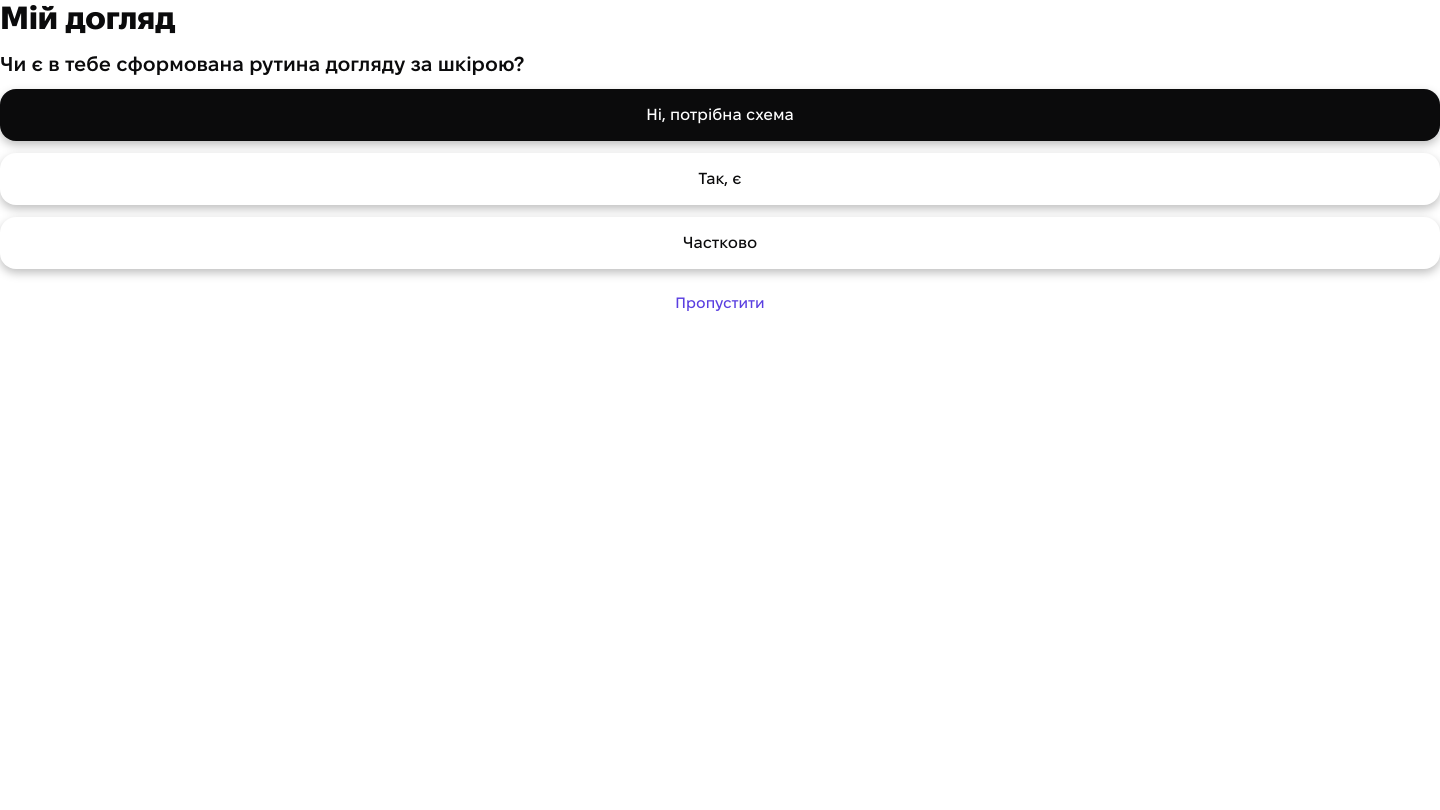
Scenario: personas on the screen › T1: morning of 3 steps, evening of 2 base steps and 1 optional step
Click the button "Ні, потрібна схема" at (720, 115), box [0,89,1439,141]
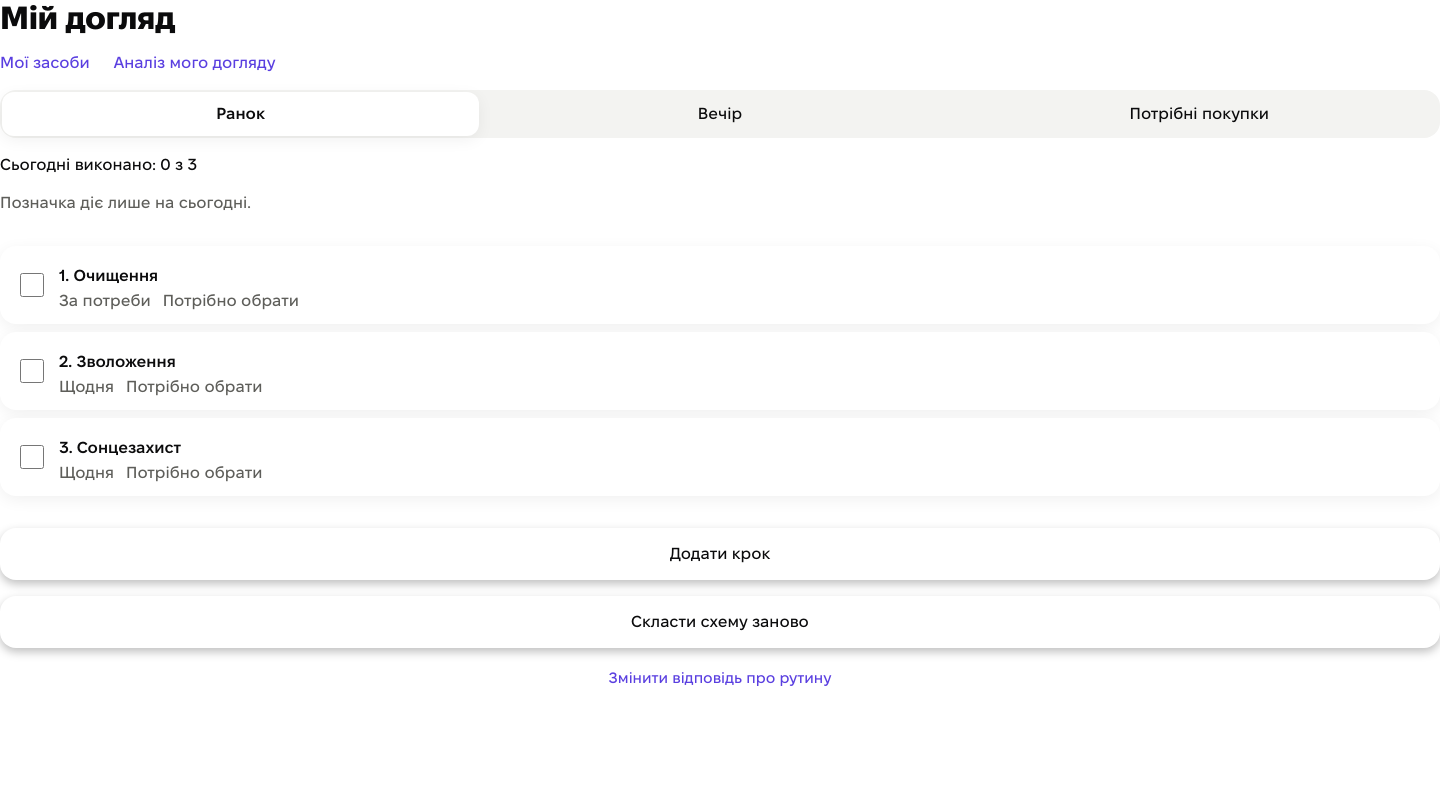
Click the tab "Вечір" at (720, 114), box [481,92,959,136]
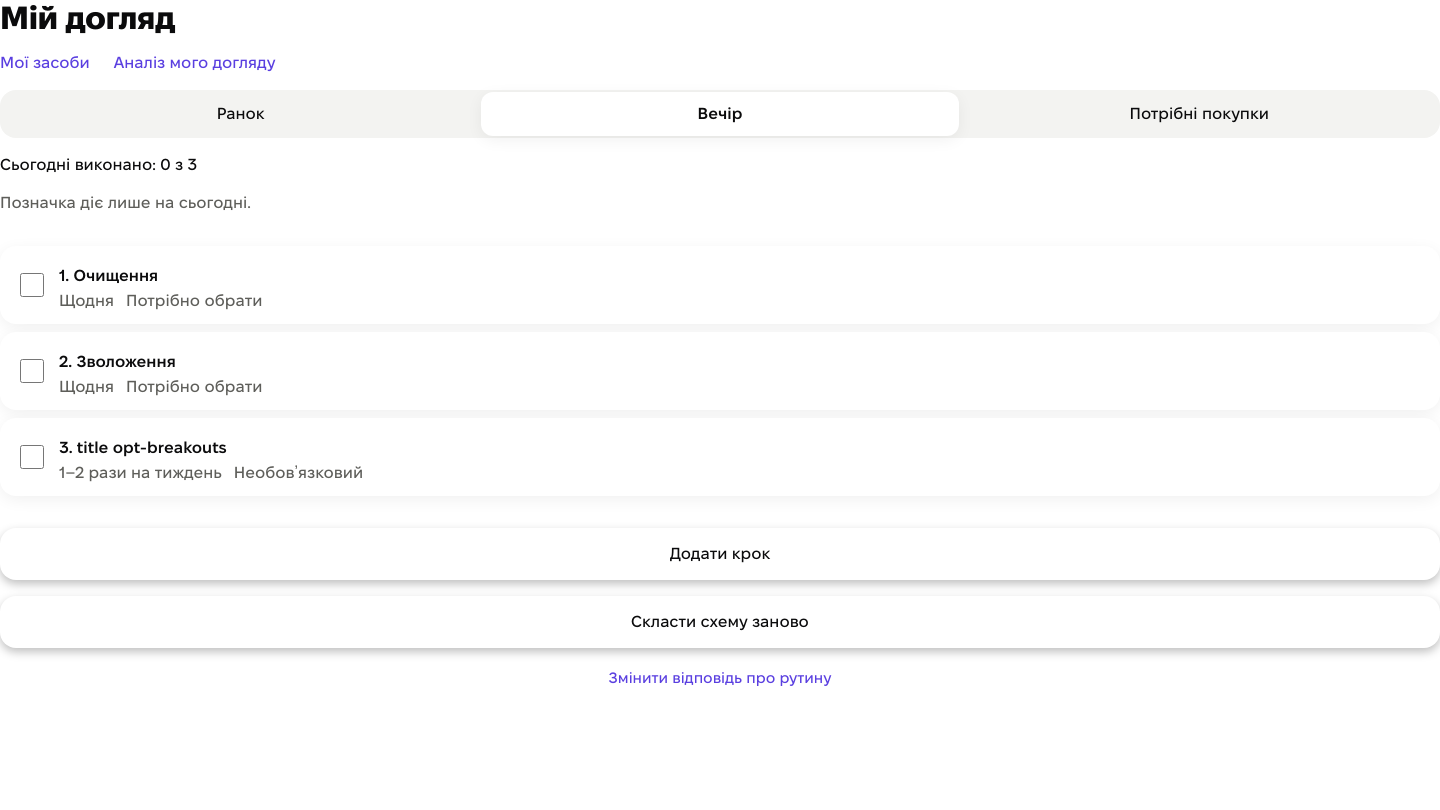
Check: the text "Необовʼязковий" is shown, box [234,462,363,484]
Click the button "3. title opt-breakouts" at (143, 448), box [59,426,1424,470]
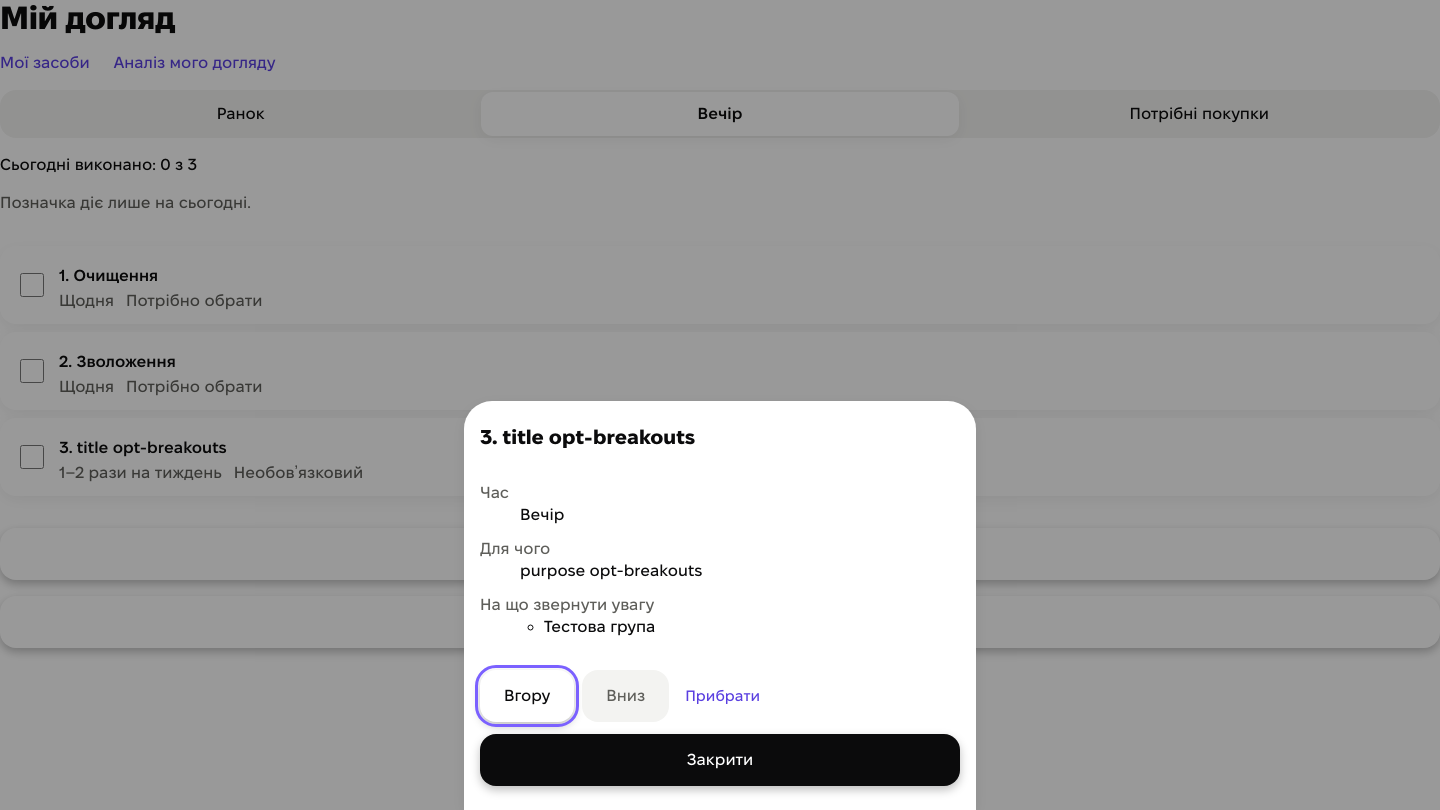
Check: the text "purpose opt-breakouts" is shown, box [520,562,702,579]
